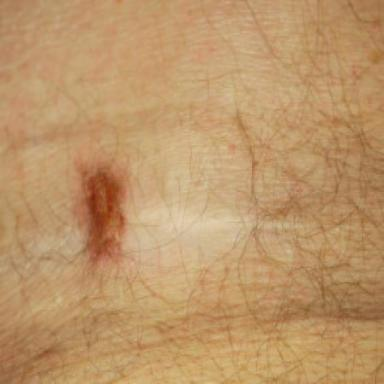Melanoma: (76, 160, 127, 263)
